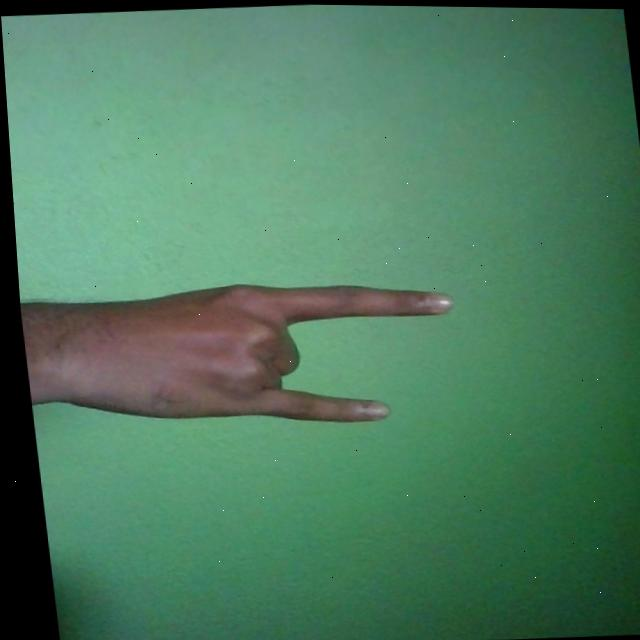Rock On: (26, 269, 464, 438)
